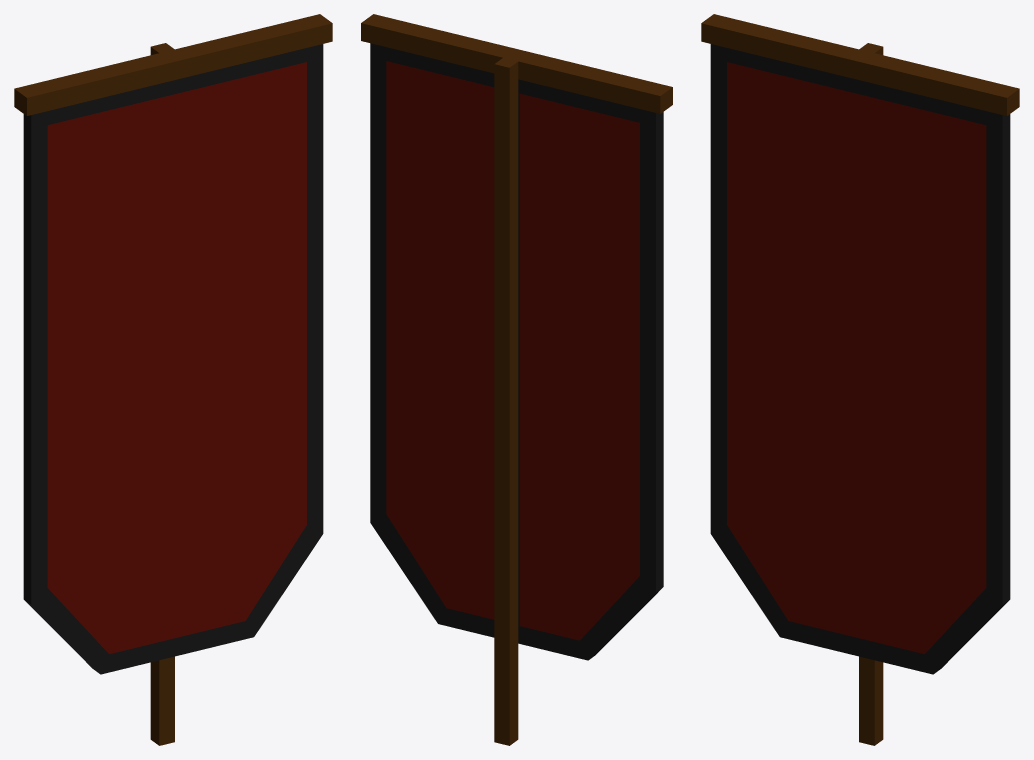
Rendered from Banner.fbx.
3 views of the same model, side by side, from view 1: azimuth 30°, elevation 25°; view 2: azimuth 150°, elevation 25°; view 3: azimuth 330°, elevation 25° (orthographic). The views are drawn at different scales.
Parts seen in each view (by area): view 1: Cube; view 2: Cube; view 3: Cube.
Boxes of the visible parts, x1,y1,x2,y2 form: Cube: [14, 14, 332, 745]; Cube: [361, 14, 672, 745]; Cube: [701, 14, 1019, 745].
Bounding box in the file's own units: 370 × 800 × 45.24.
